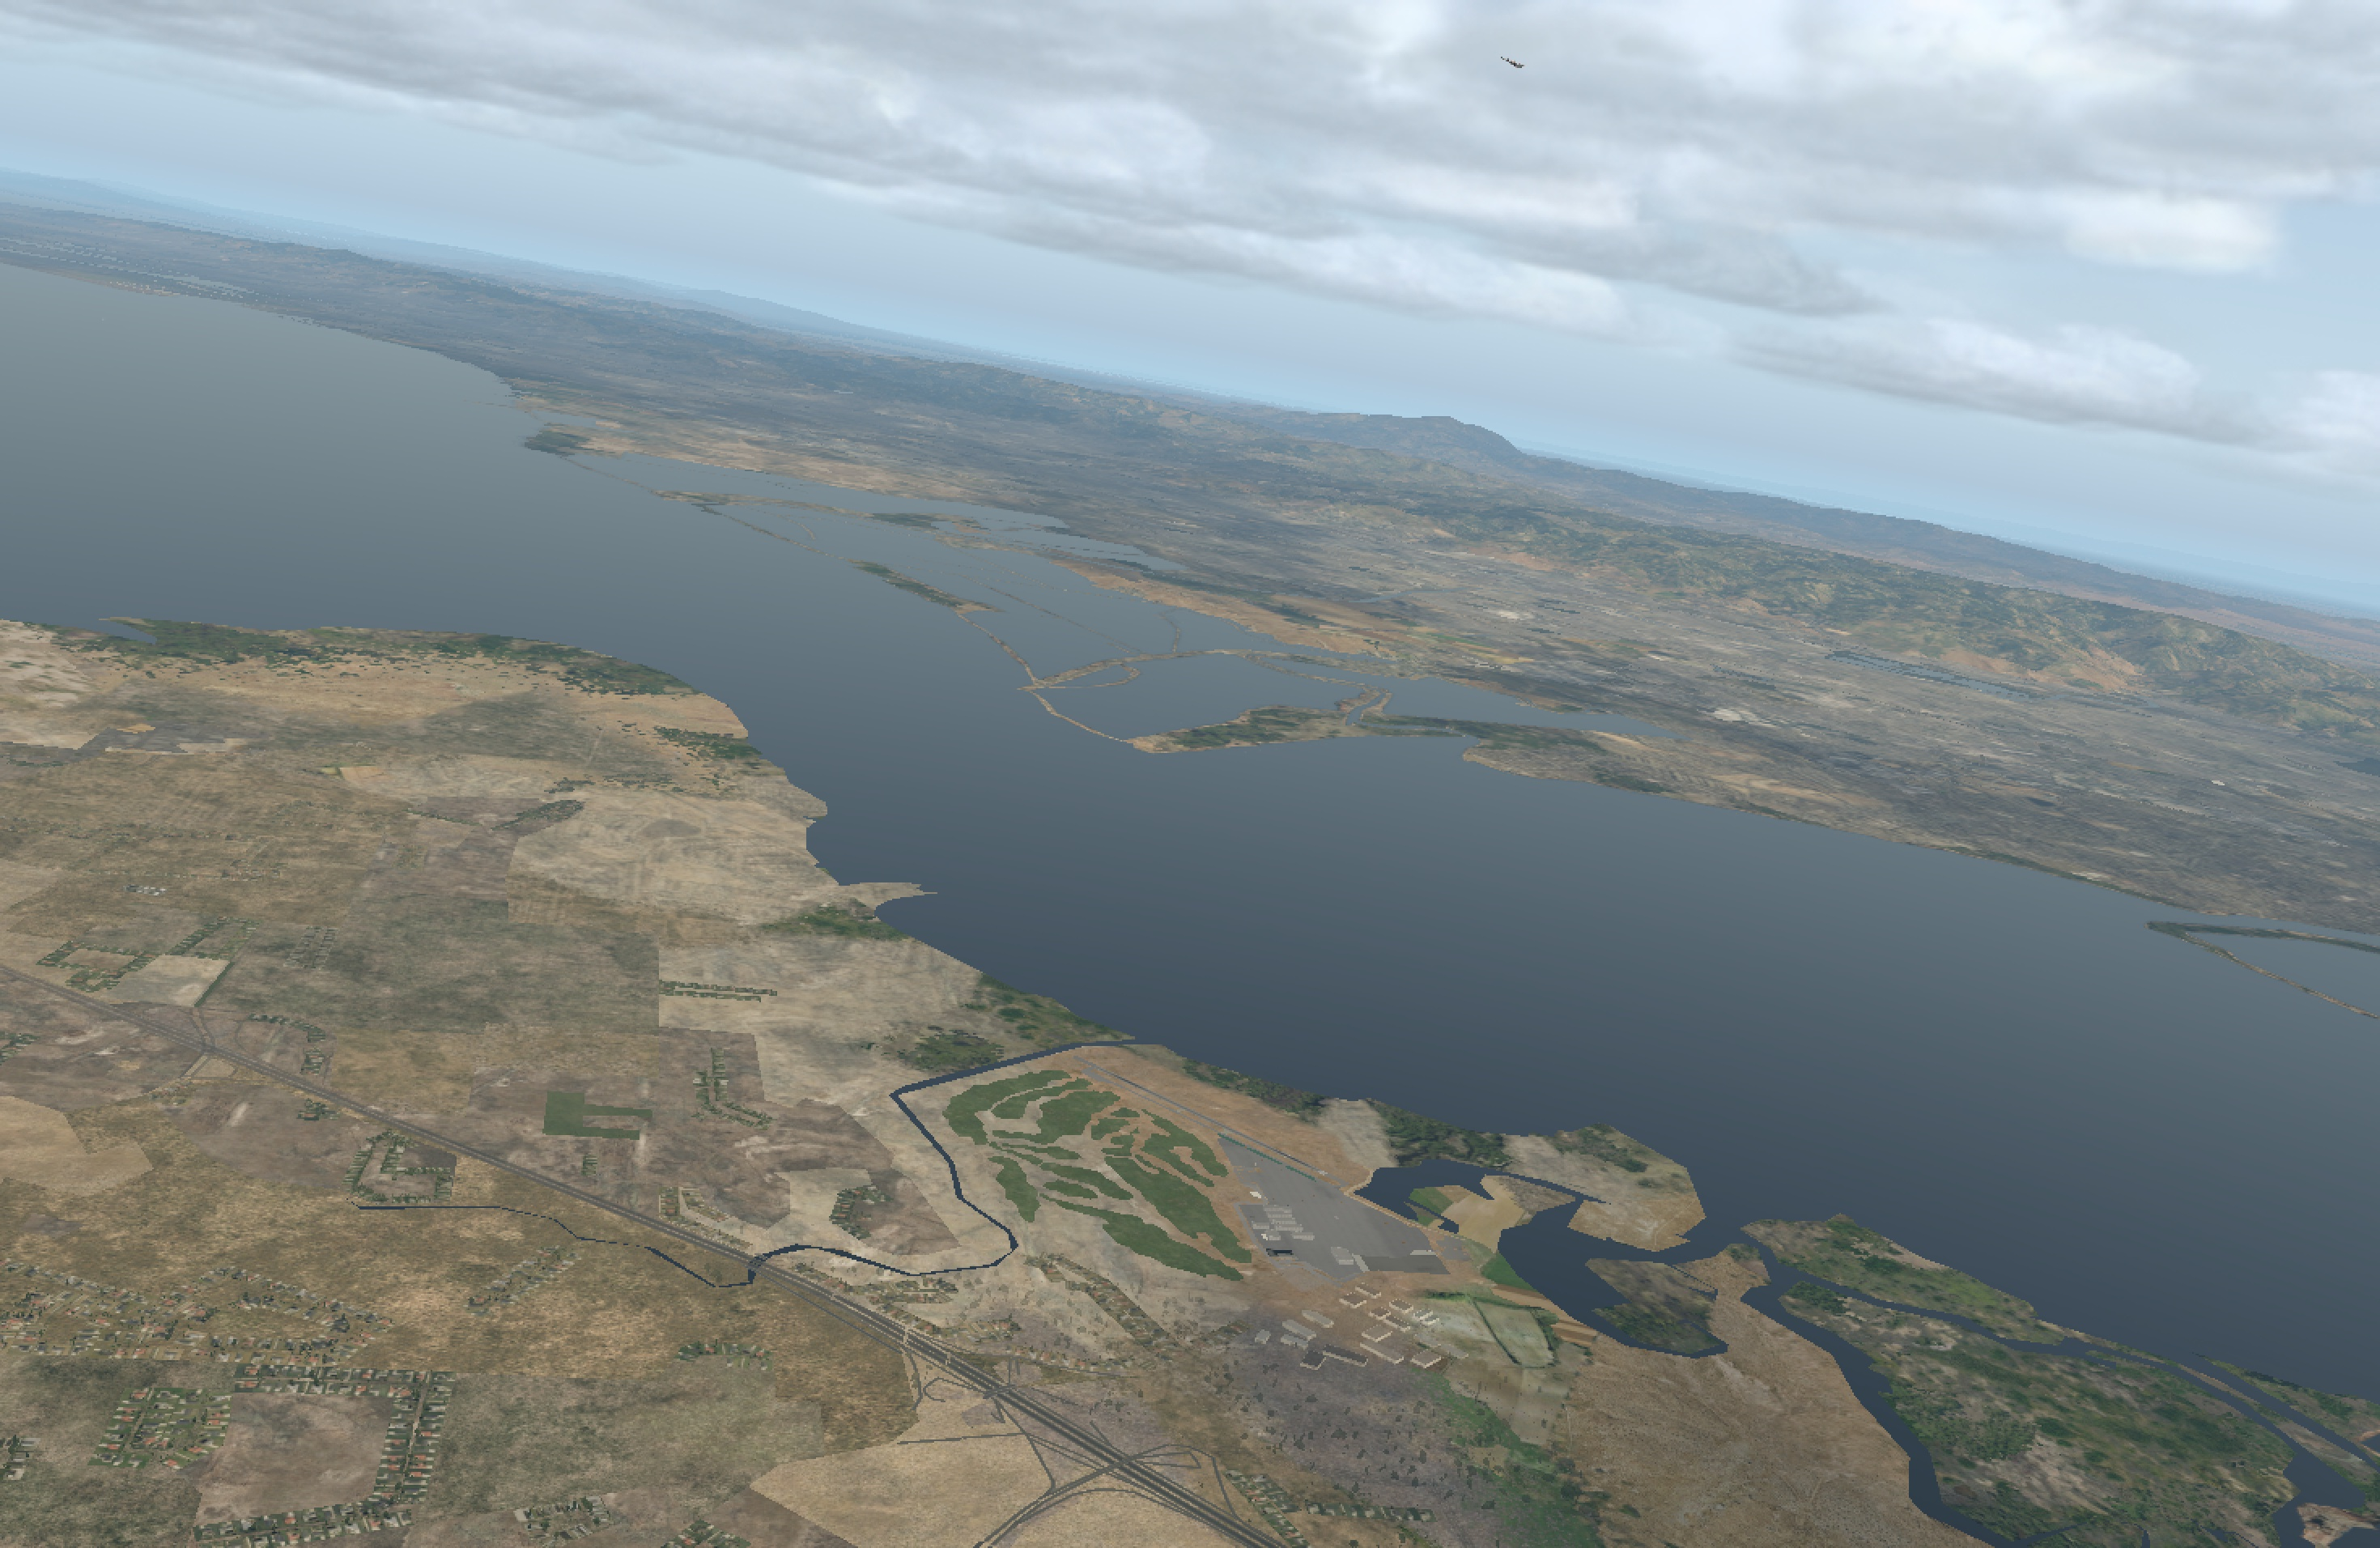aircraft: (1497, 57, 1527, 69)
